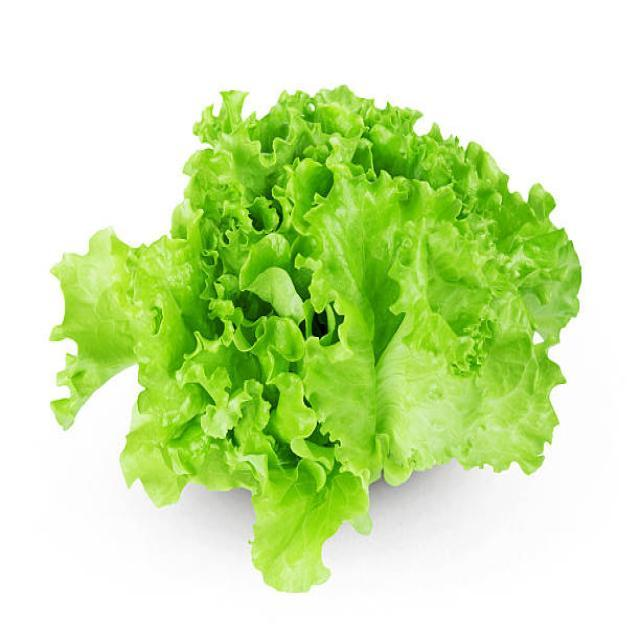Lettuce-Ready-to-Harvest: (54, 88, 580, 591)
